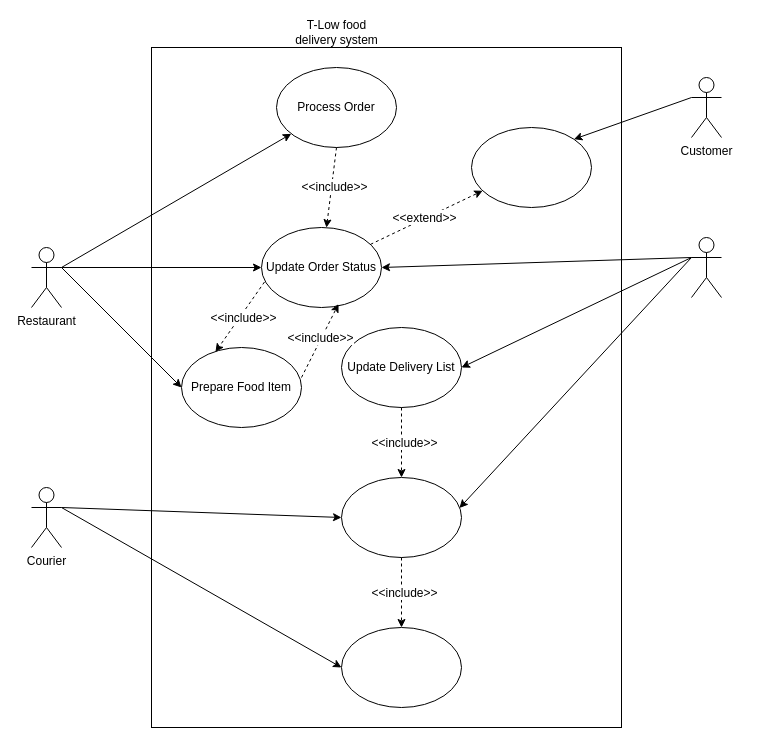
This 762x745 diagram has some shape labels left out. The centre of each missing label's shape, as x and y in pixels:
New Delivery Notification: pixel 401 517
T-Low Service: pixel 706 267
View Available delivery: pixel 401 667
View Updated Order Status: pixel 531 167
